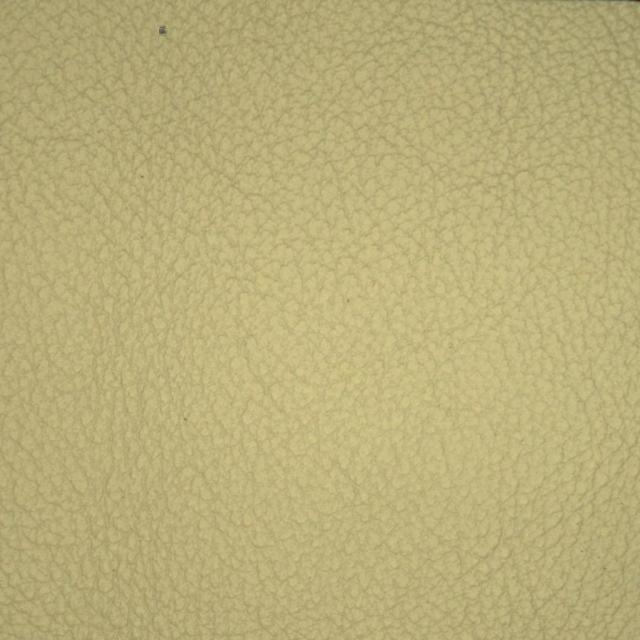Hole: (77, 15, 294, 119)
